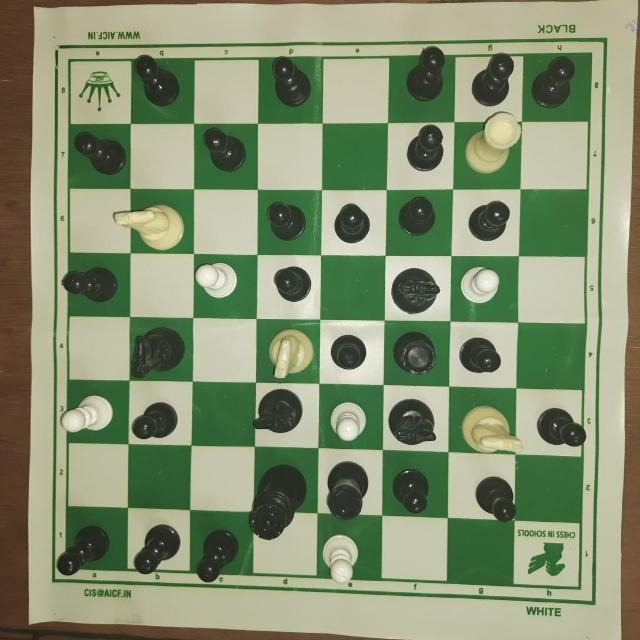black-knight: (128, 323, 192, 381), (247, 386, 313, 438), (388, 263, 444, 319), (386, 392, 442, 447)
black-pawn: (55, 519, 113, 580), (128, 520, 183, 581), (526, 401, 590, 451), (461, 192, 519, 247), (263, 48, 314, 109), (131, 51, 182, 111), (403, 39, 449, 103), (528, 53, 578, 111), (468, 47, 516, 107), (196, 526, 242, 587), (70, 130, 128, 178), (390, 462, 436, 522), (261, 195, 311, 250), (404, 120, 449, 180), (199, 125, 250, 177), (60, 263, 121, 305), (128, 398, 183, 444), (469, 472, 519, 521), (457, 328, 505, 379), (395, 192, 440, 246), (330, 197, 373, 251), (327, 327, 371, 374), (269, 263, 314, 307)
black-queen: (243, 460, 310, 546)
black-rook: (321, 459, 371, 523), (388, 329, 439, 381)
white-knight: (108, 200, 188, 254), (458, 397, 525, 461), (264, 325, 318, 382)
white-pawn: (58, 390, 115, 440), (317, 531, 364, 590), (325, 395, 375, 447), (192, 255, 246, 302), (458, 263, 508, 313)
white-rook: (464, 109, 521, 177)
